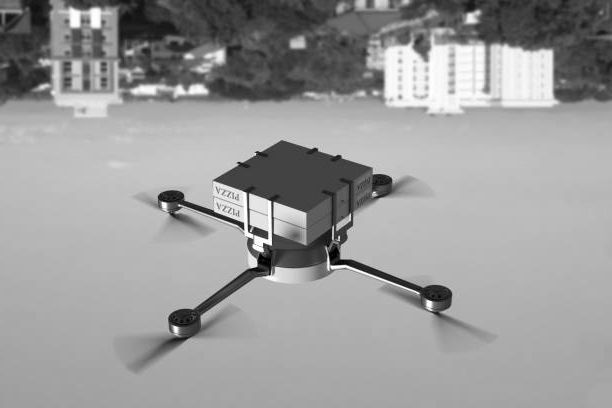Drone: (110, 167, 494, 383)
